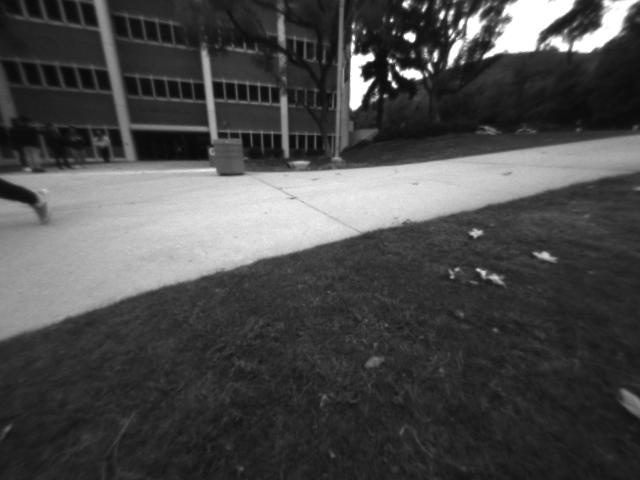trashcan: (211, 136, 245, 178)
